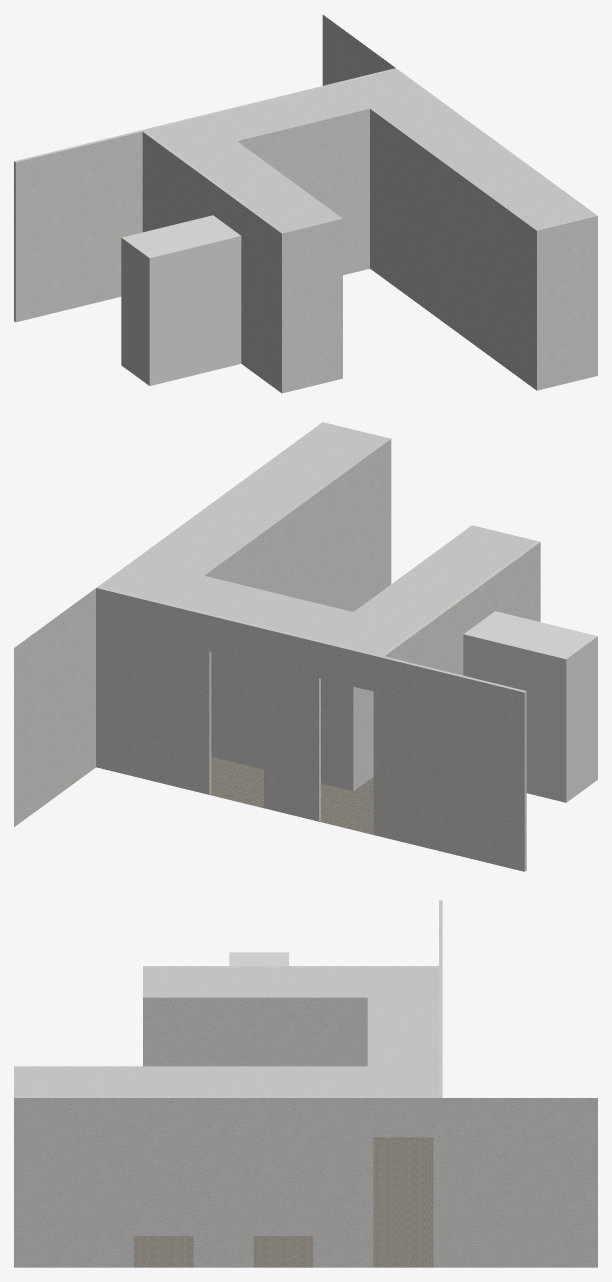
The model's file is hallway.fbx.
3 views of the same model, one above another, from view 1: azimuth 30°, elevation 25°; view 2: azimuth 150°, elevation 25°; view 3: azimuth 270°, elevation 25° (orthographic). The views are drawn at different scales.
Visible parts, largest first — view 1: wall04, wall07, exit, wall09, ceil01, wall03, wall01, wall05, ceil02, ceil03, wall08, wall06; view 2: wall07, wall04, exit, ceil01, wall08, wall03, ceil02, ceil03, wall09, floor02, wall02, wall06; view 3: wall06, wall08, wall02, ceil01, wall04, ceil02, ceil03, floor02, floor01, wall09, exit, wall07.
Part boxes in pixels (left/top/right/bottom): wall04: left=370, top=109, right=536, bottom=390; wall07: left=14, top=69, right=393, bottom=322; exit: left=121, top=215, right=241, bottom=385; wall09: left=142, top=131, right=284, bottom=393; ceil01: left=337, top=68, right=597, bottom=230; wall03: left=237, top=109, right=369, bottom=275; wall01: left=285, top=219, right=342, bottom=392; wall05: left=537, top=216, right=594, bottom=390; ceil02: left=146, top=84, right=369, bottom=155; ceil03: left=179, top=141, right=342, bottom=233; wall08: left=322, top=15, right=395, bottom=85; wall06: left=395, top=68, right=597, bottom=376; wall07: left=99, top=587, right=526, bottom=871; wall04: left=204, top=439, right=391, bottom=611; exit: left=463, top=611, right=597, bottom=802; ceil01: left=96, top=422, right=390, bottom=602; wall08: left=14, top=588, right=95, bottom=826; wall03: left=211, top=652, right=353, bottom=791; ceil02: left=167, top=575, right=417, bottom=655; ceil03: left=354, top=525, right=536, bottom=627; wall09: left=381, top=541, right=540, bottom=675; floor02: left=209, top=757, right=373, bottom=834; wall02: left=353, top=686, right=373, bottom=790; wall06: left=96, top=423, right=325, bottom=767; wall06: left=14, top=1096, right=442, bottom=1267; wall08: left=442, top=1098, right=597, bottom=1267; wall02: left=143, top=997, right=367, bottom=1066; ceil01: left=14, top=1066, right=442, bottom=1097; wall04: left=133, top=1132, right=313, bottom=1235; ceil02: left=367, top=967, right=438, bottom=1066; ceil03: left=143, top=967, right=367, bottom=997; floor02: left=373, top=1137, right=433, bottom=1235; floor01: left=133, top=1236, right=433, bottom=1267; wall09: left=143, top=966, right=438, bottom=1137; exit: left=229, top=952, right=288, bottom=965; wall07: left=439, top=900, right=442, bottom=1096.
Size of the model in its own units: 6.25 by 2.5 by 7.8.
